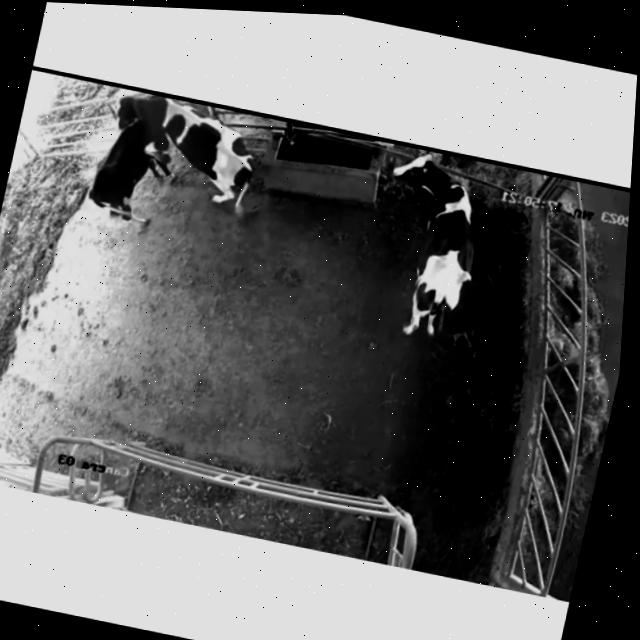ride: (88, 86, 272, 213)
